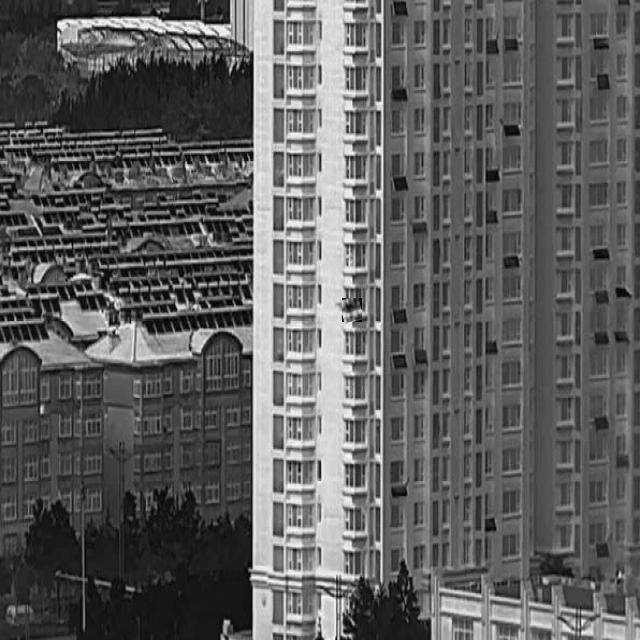drone: (342, 298, 361, 321)
